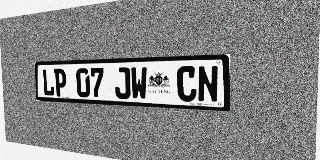0: (76, 68, 90, 98)
7: (90, 68, 104, 98)
C: (177, 66, 197, 102)
J: (114, 67, 131, 99)
L: (42, 69, 55, 96)
N: (197, 65, 219, 103)
P: (54, 69, 67, 97)
W: (130, 67, 148, 100)
